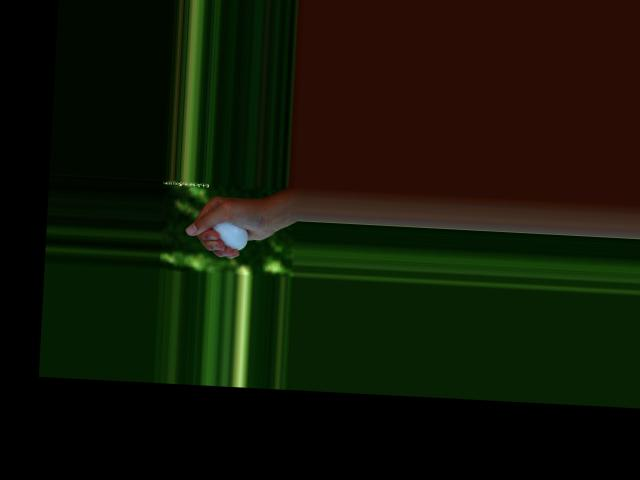egg: (210, 221, 248, 251)
